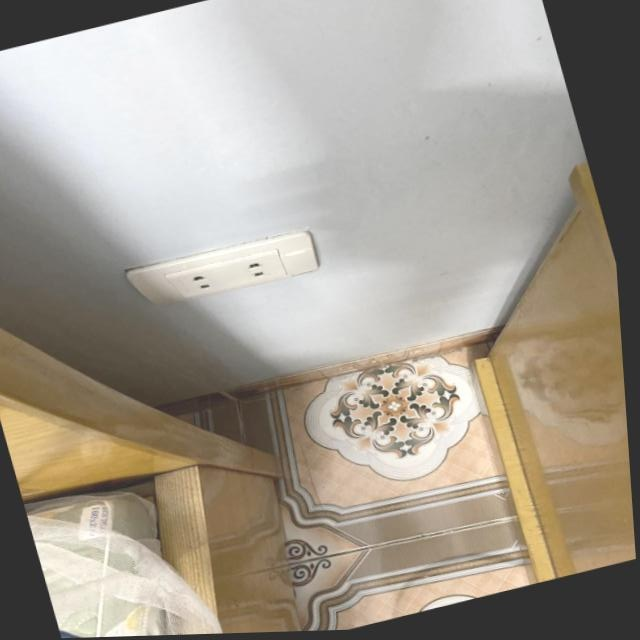outlet: (121, 226, 324, 317)
